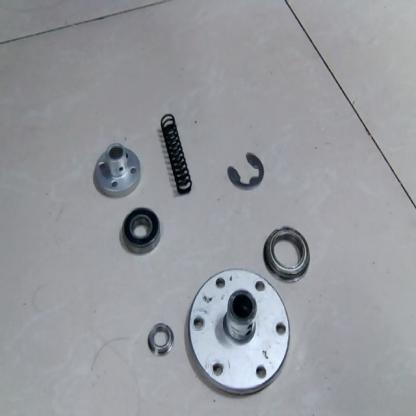FOD: (184, 264, 291, 400), (158, 110, 196, 199), (262, 222, 316, 284), (89, 141, 144, 200), (118, 203, 163, 259), (226, 148, 266, 196), (144, 320, 178, 360)
